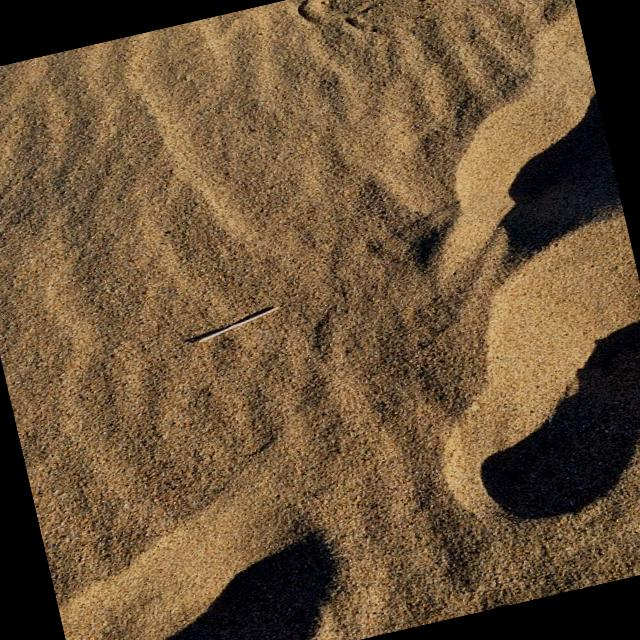Recycle: (178, 292, 286, 348)
